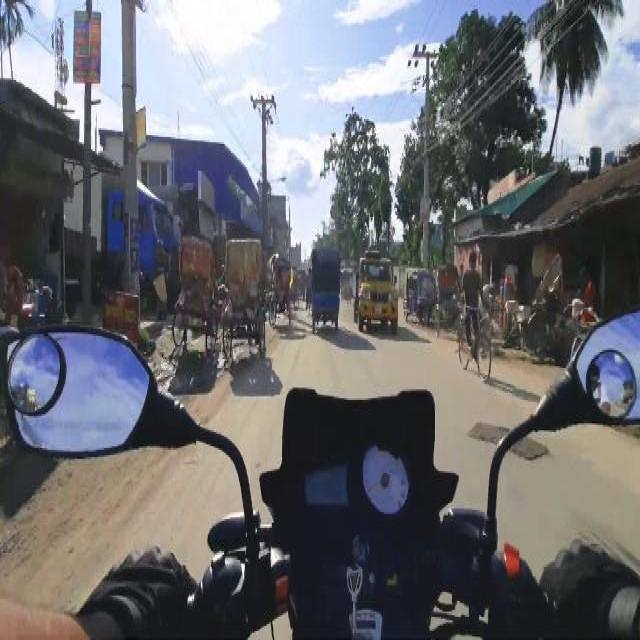10: (5, 321, 637, 639)
11: (354, 249, 400, 331)
13: (492, 260, 558, 359), (221, 238, 267, 359), (172, 238, 216, 359), (432, 263, 458, 334), (268, 258, 292, 329)
18: (70, 165, 174, 308)
Car: (309, 246, 339, 334), (404, 265, 434, 325)
Motorcycle: (456, 250, 492, 380), (306, 266, 310, 314)
